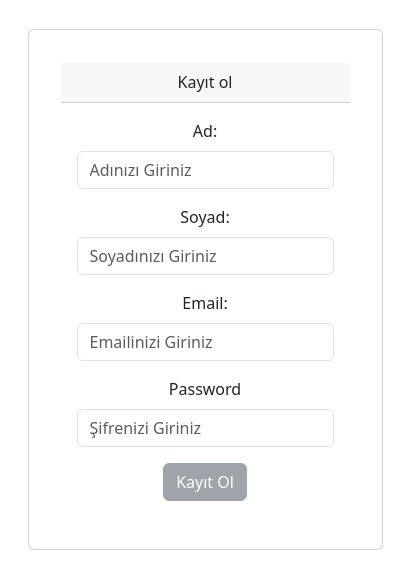
Test: Register Page › Error Messages › Surname input throws error for 2 chars
In the field with test id "soyad-input": x=206, y=256 [77,237,334,275], type "sa"
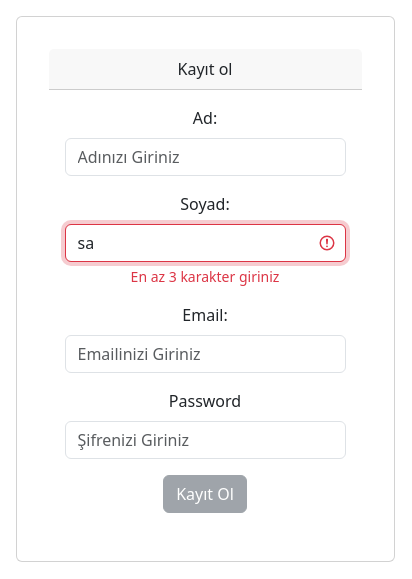
Check: the text "En az 3 karakter giriniz" is shown, box [131,267,279,286]
